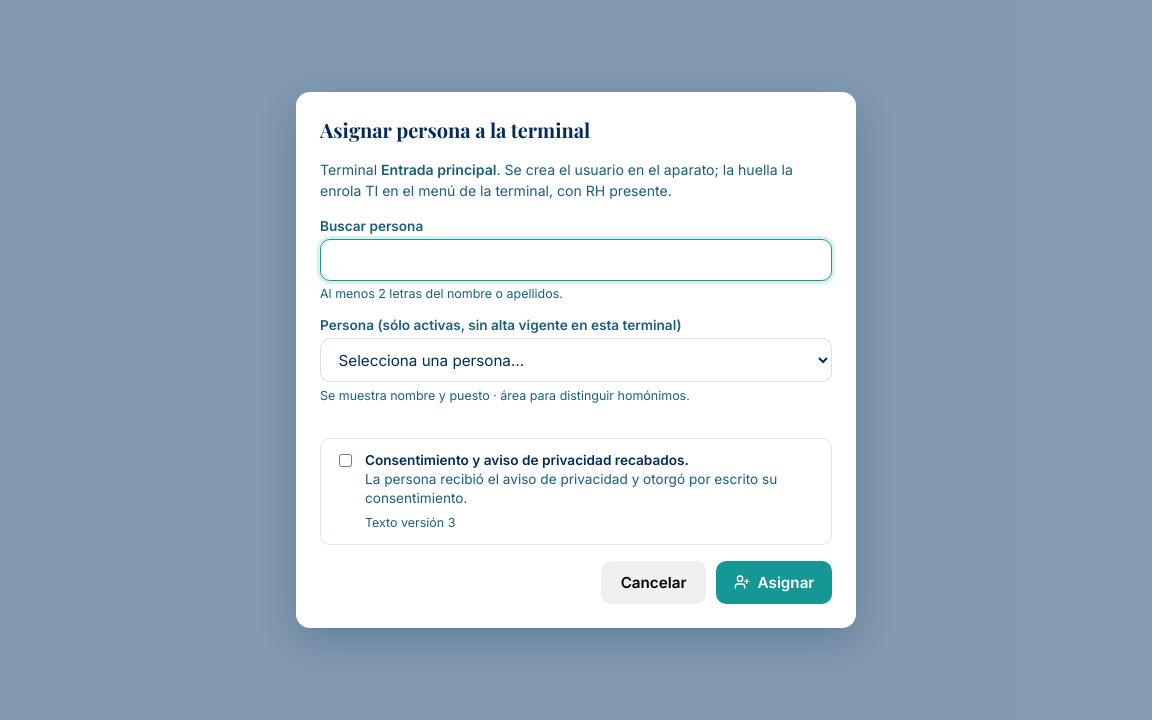
Scenario: AsignarPersonaTerminalModal › 409 de consentimiento desactualizado: toma el texto nuevo del cuerpo, desmarca y pide releer
Select "Ana Torres — Auxiliar de almacén · Bodega" in the dropdown labelled "Persona (sólo activas, sin alta vigente en esta terminal)" at (576, 360), box [320,338,832,382]
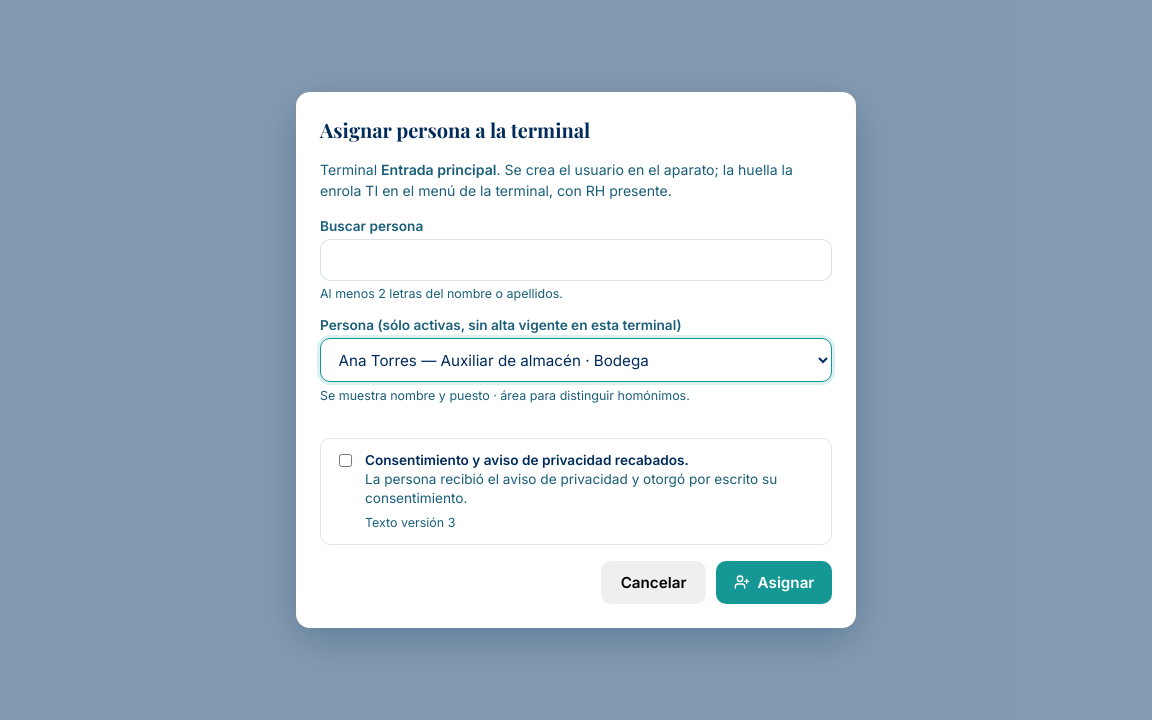
Click the checkbox labelled "Consentimiento y aviso de privacidad recabados" at (346, 460), box [339,454,352,467]
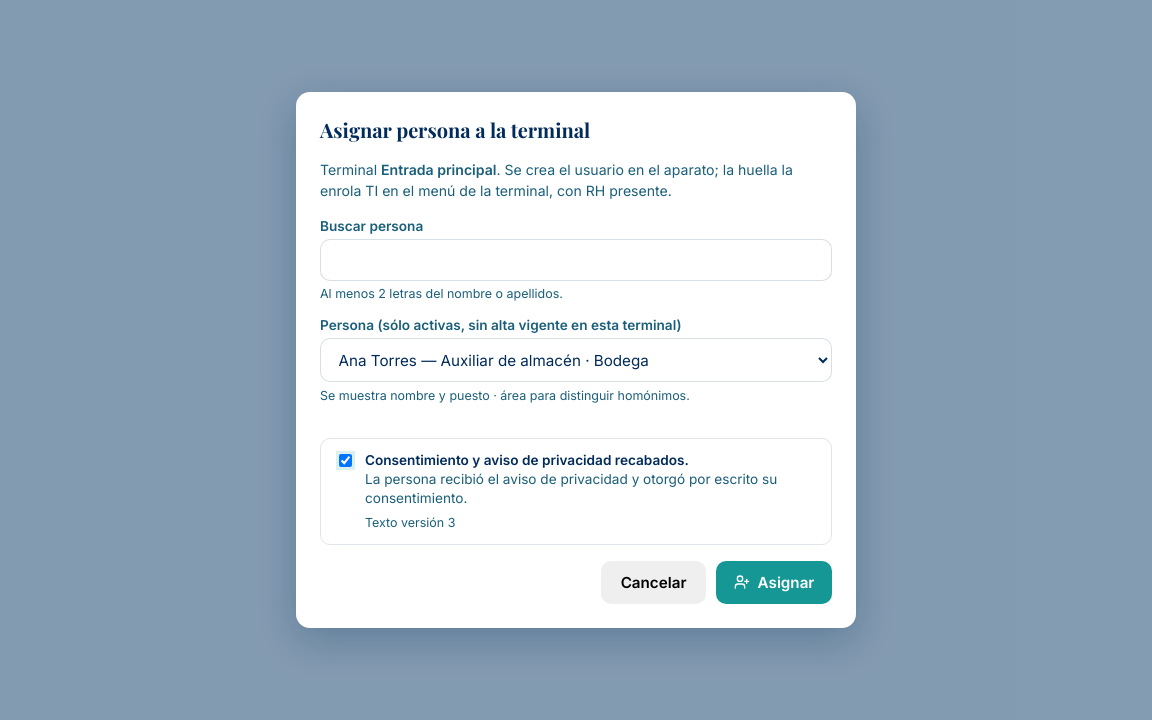
Click the button "Asignar" at (774, 582), box [716,561,832,604]
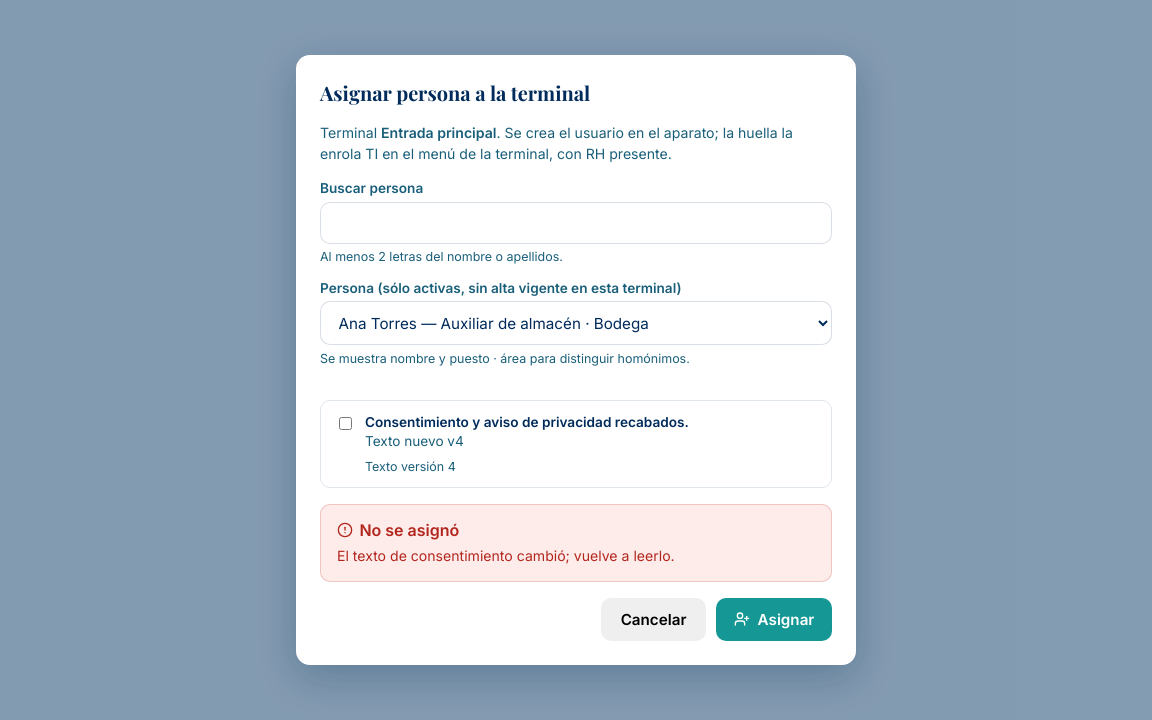
Expected: the message shows "El texto de consentimiento cambió; vuelve a leerlo.", [337,547,675,564]
Expected: the text "Texto nuevo v4" is shown, [365,434,464,450]
Expected: the text "Texto versión 4" is shown, [365,459,456,474]
Click the checkbox labelled "Consentimiento y aviso de privacidad recabados" at (346, 423), box [339,417,352,430]
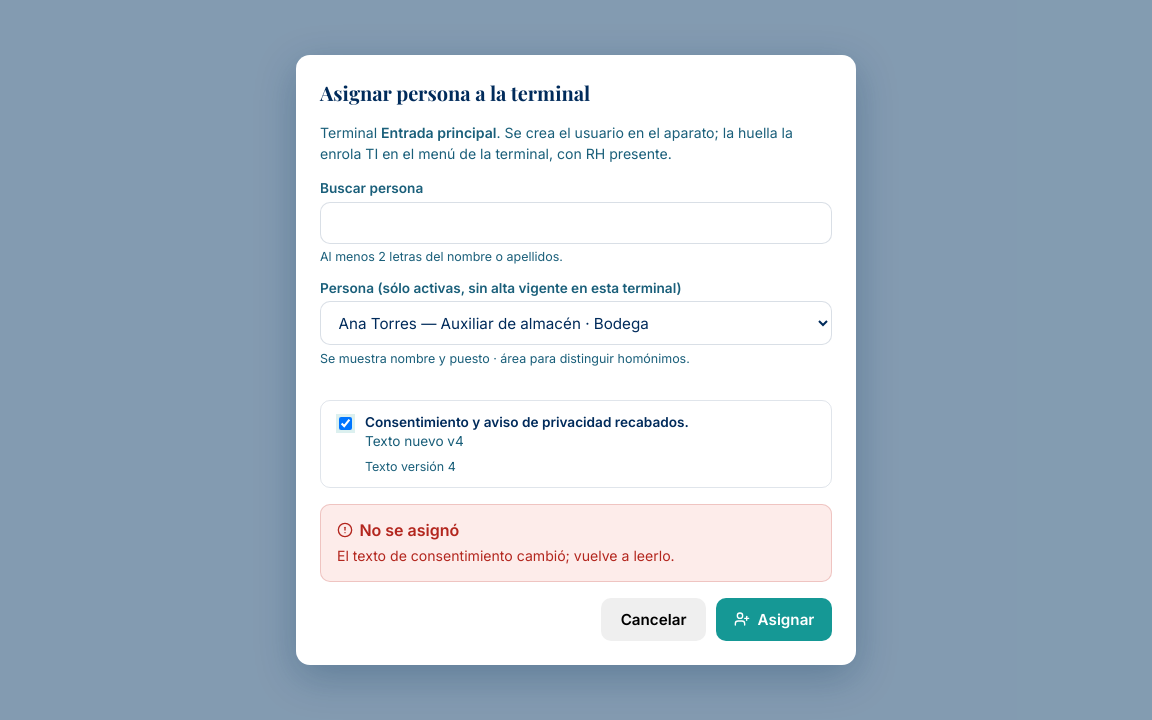
Click the button "Asignar" at (774, 619), box [716,598,832,641]
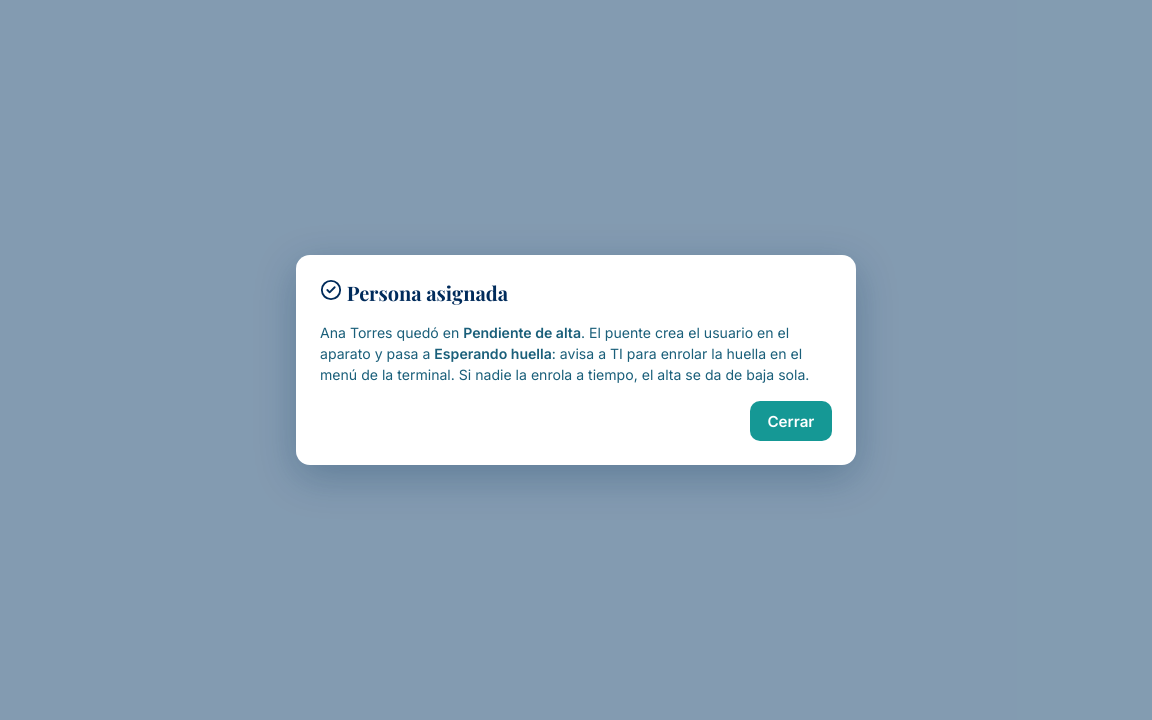
Expected: the heading "Persona asignada" is shown, [320,279,508,306]
